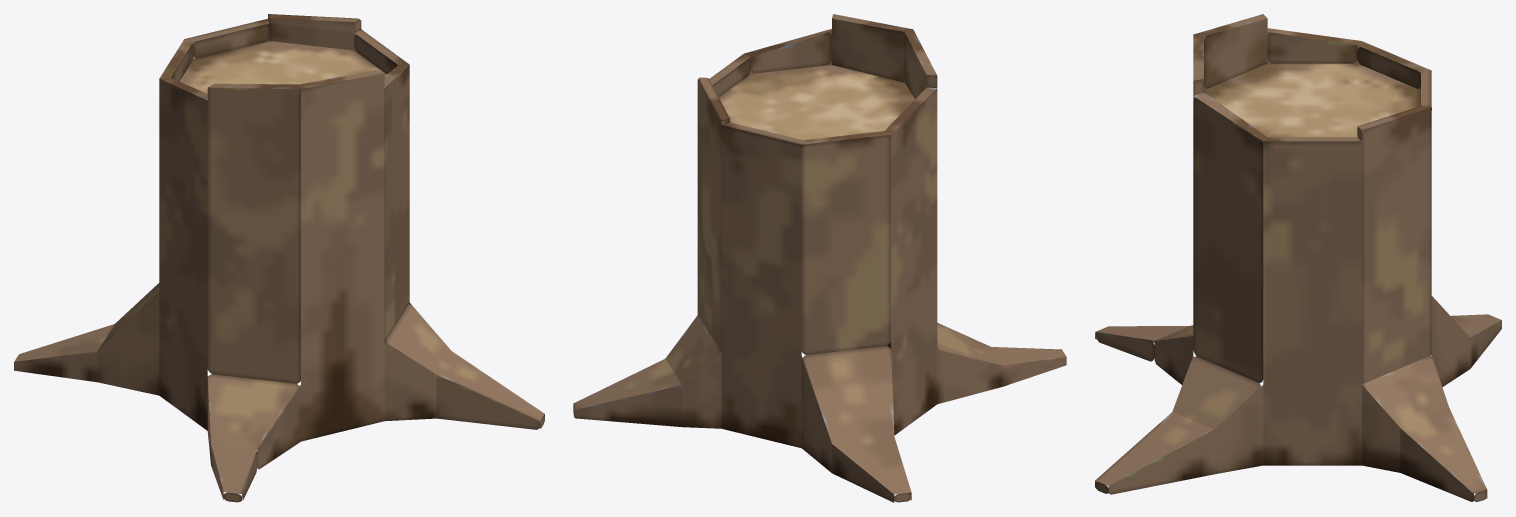
Rendered from Stump.fbx.
3 renders of one model, left to right at view 1: azimuth 30°, elevation 25°; view 2: azimuth 150°, elevation 25°; view 3: azimuth 270°, elevation 25°, orthographic. The views are drawn at different scales.
Parts seen in each view (by area): view 1: base; view 2: base; view 3: base.
Boxes of the visible parts, left/top/right/bottom form: base: left=14, top=14, right=544, bottom=502; base: left=573, top=14, right=1066, bottom=502; base: left=1095, top=14, right=1501, bottom=501.
Size of the model in its own units: 134 by 125 by 128.
Materials: 1 (1 with a texture image).
